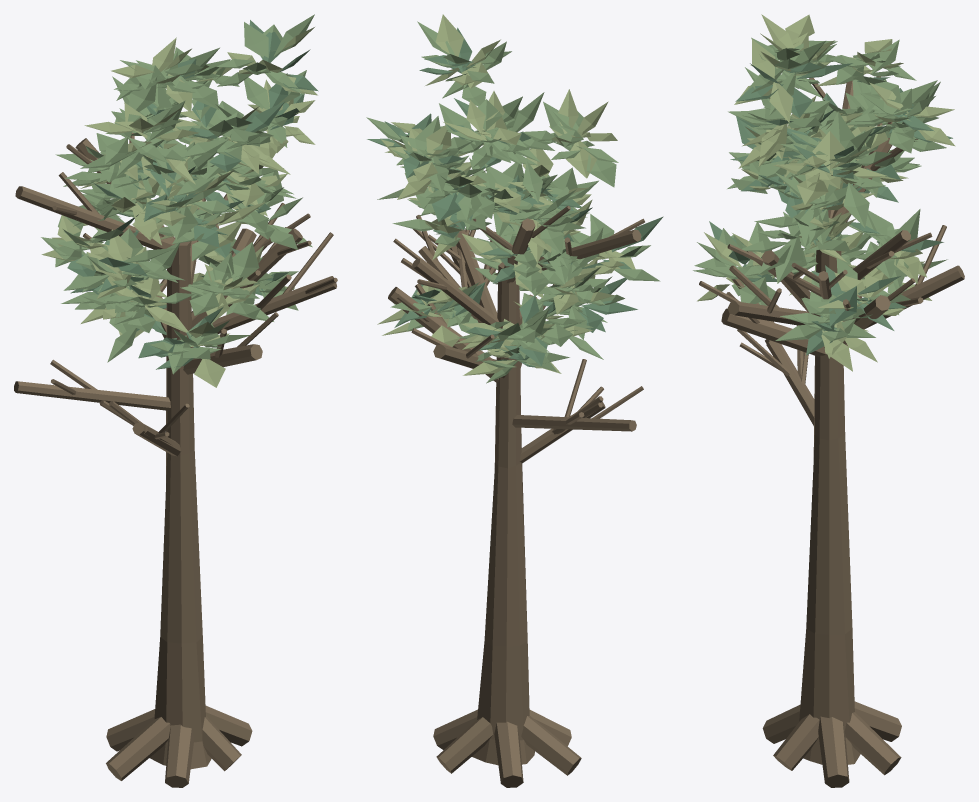
File: broadleaf_b.glb
3 views of the same model, side by side, from view 1: azimuth 30°, elevation 25°; view 2: azimuth 150°, elevation 25°; view 3: azimuth 270°, elevation 25° (orthographic). The views are drawn at different scales.
Parts seen in each view (by area): view 1: broadleaf_b LOD0; view 2: broadleaf_b LOD0; view 3: broadleaf_b LOD0.
Boxes of the visible parts, x1,y1,x2,y2 form: broadleaf_b LOD0: (14,14,337,787); broadleaf_b LOD0: (366,14,663,787); broadleaf_b LOD0: (693,14,964,787).
Size of what is drawn, in the model's own units: 4.53 by 11.02 by 3.6.
